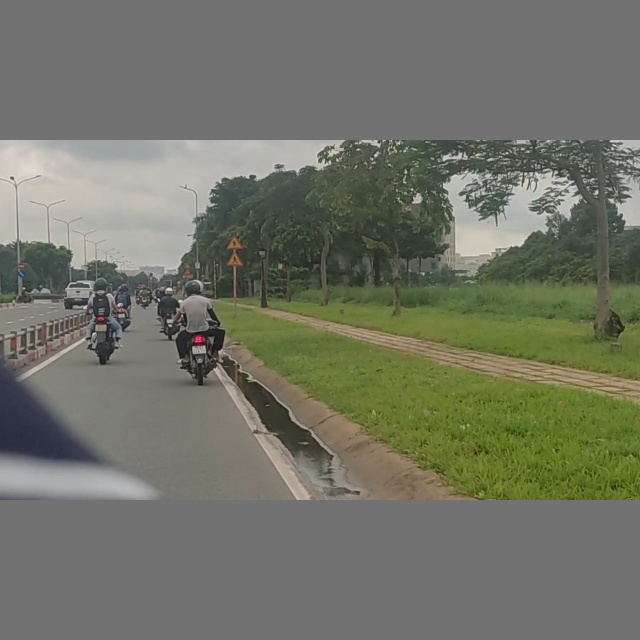P.102: (17, 263, 25, 269)
R.302a: (17, 270, 25, 277)
W.207: (226, 236, 245, 250)
W.224: (226, 253, 244, 267)
